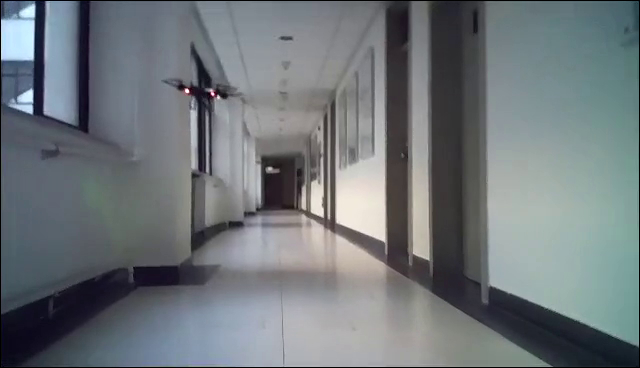drone: (162, 75, 244, 109)
